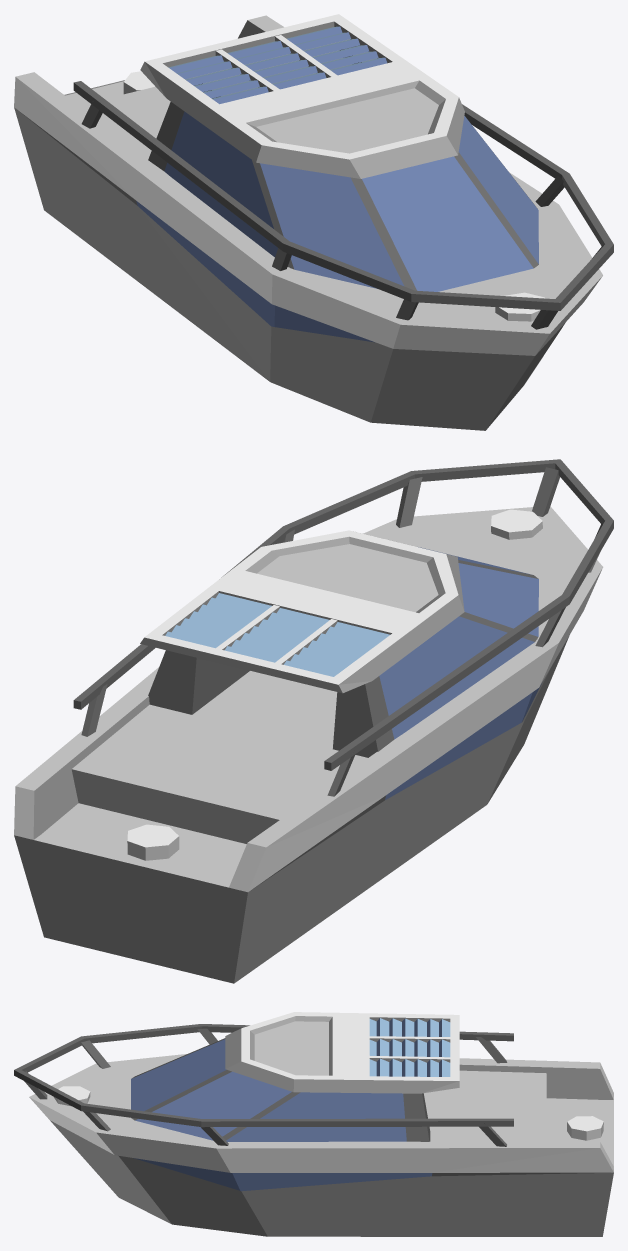
File: transport_water_003.fbx
The picture shows the model from 3 angles, top to bottom: view 1: azimuth 30°, elevation 25°; view 2: azimuth 150°, elevation 25°; view 3: azimuth 270°, elevation 25°; orthographic projection. The views are drawn at different scales.
Visible parts, largest first — view 1: transport_water_003; view 2: transport_water_003; view 3: transport_water_003.
Boxes of the visible parts, left/top/right/bottom form: transport_water_003: left=14, top=14, right=613, bottom=430; transport_water_003: left=14, top=459, right=613, bottom=983; transport_water_003: left=14, top=1012, right=613, bottom=1236.
Bounding box in the file's own units: 400 × 305 × 1038.
